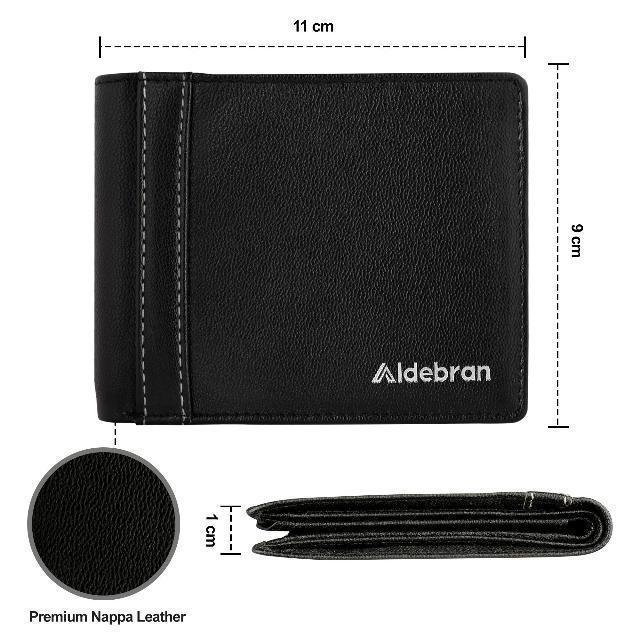wallet: (92, 70, 530, 422), (243, 489, 614, 566)
